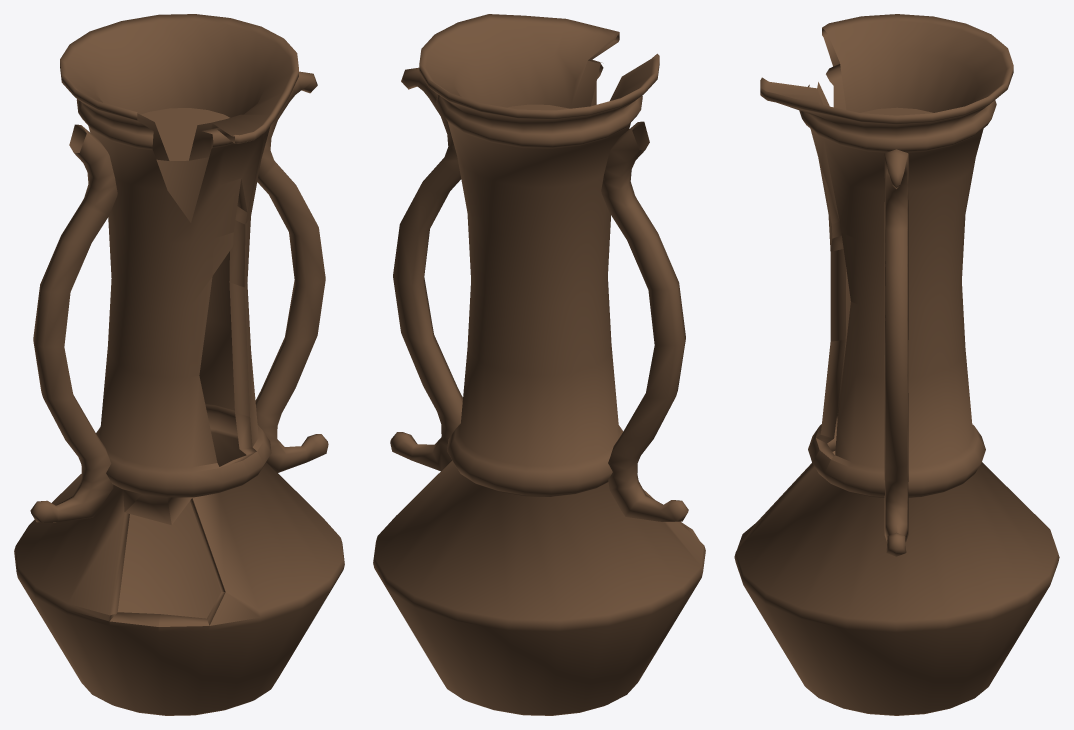
Rendered from Vase_2-3.fbx.
3 renders of one model, left to right at view 1: azimuth 30°, elevation 25°; view 2: azimuth 150°, elevation 25°; view 3: azimuth 270°, elevation 25°, orthographic.
Parts seen in each view (by area): view 1: Vase_2-3; view 2: Vase_2-3; view 3: Vase_2-3.
Boxes of the visible parts, box(x1,y1,x2,y2) form: Vase_2-3: box(14, 14, 344, 715); Vase_2-3: box(373, 14, 705, 715); Vase_2-3: box(734, 14, 1059, 715).
Size of the model in its own units: 55.88 by 111 by 53.3.
1 material, 1 textured.
